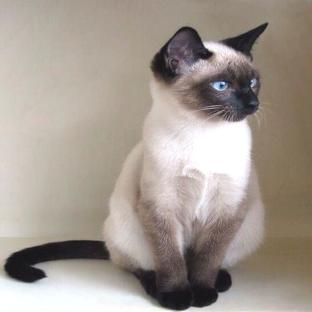Animal: (5, 23, 266, 310)
